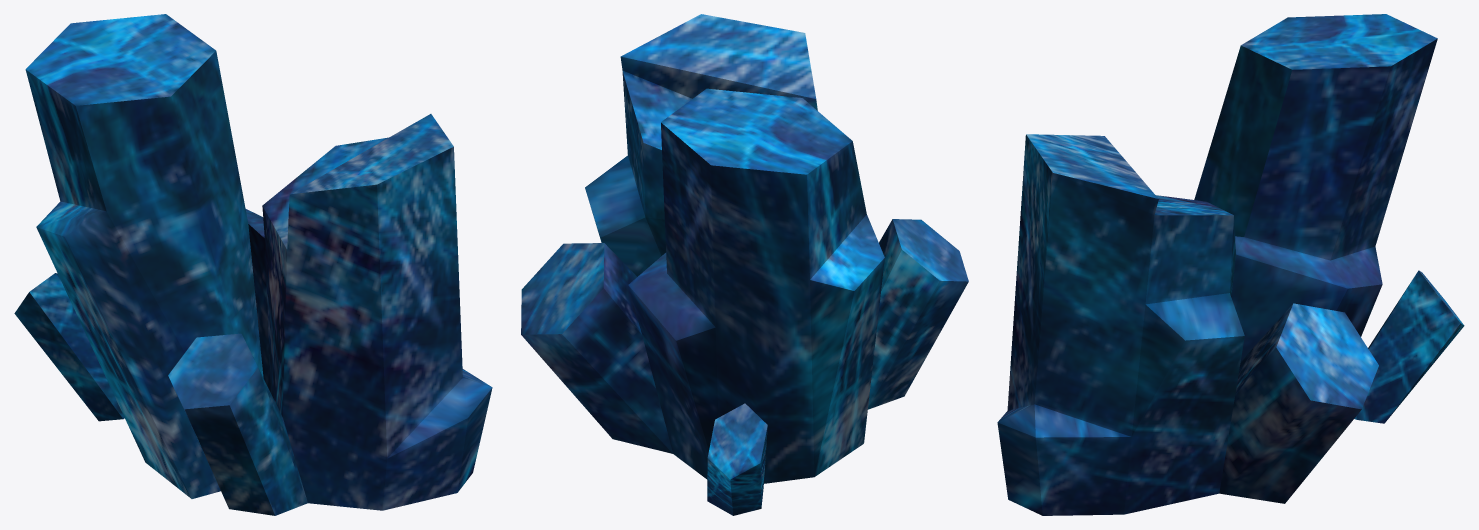
The model's file is Crystal_D_01.fbx.
3 views of the same model, side by side, from view 1: azimuth 30°, elevation 25°; view 2: azimuth 150°, elevation 25°; view 3: azimuth 270°, elevation 25° (orthographic). The views are drawn at different scales.
Parts seen in each view (by area): view 1: Crystal_D_01; view 2: Crystal_D_01; view 3: Crystal_D_01.
Boxes of the visible parts, left/top/right/bottom form: Crystal_D_01: left=14, top=14, right=492, bottom=515; Crystal_D_01: left=521, top=14, right=968, bottom=515; Crystal_D_01: left=997, top=14, right=1464, bottom=515.
Bounding box in the file's own units: 4.89 × 5.34 × 5.67.
